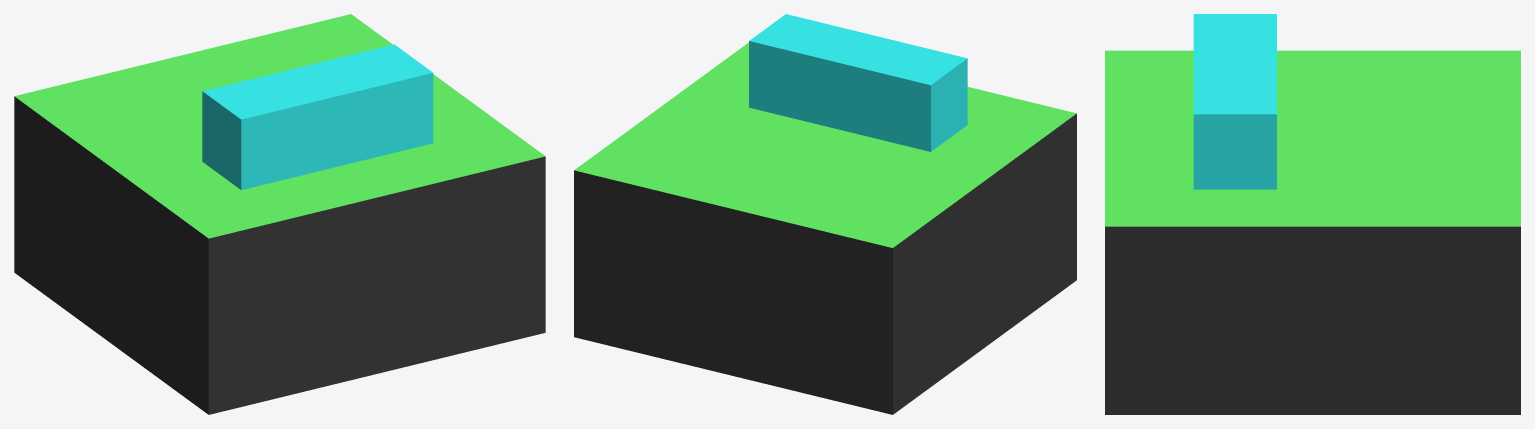
The model's file is dingmian1.dae.
3 views of the same model, side by side, from view 1: azimuth 30°, elevation 25°; view 2: azimuth 150°, elevation 25°; view 3: azimuth 270°, elevation 25° (orthographic). The views are drawn at different scales.
Visible parts, largest first — view 1: dingmian1 (×3); view 2: dingmian1 (×3); view 3: dingmian1 (×3).
Part boxes in pixels (bbox=[...]): dingmian1 (×3): bbox=[14, 14, 545, 414]; dingmian1 (×3): bbox=[574, 14, 1076, 414]; dingmian1 (×3): bbox=[1105, 14, 1520, 414].
Size of the model in its own units: 39.37 by 39.37 by 27.56.
